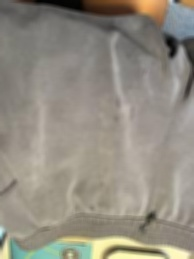oil: (125, 106, 138, 123), (111, 93, 122, 108), (97, 179, 109, 192), (89, 206, 100, 213), (109, 118, 117, 127)
